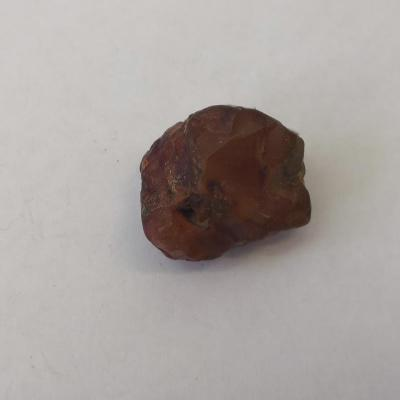mineralogy: (141, 106, 311, 260)
